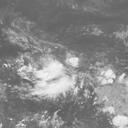cyclone: (33, 61, 73, 100)
